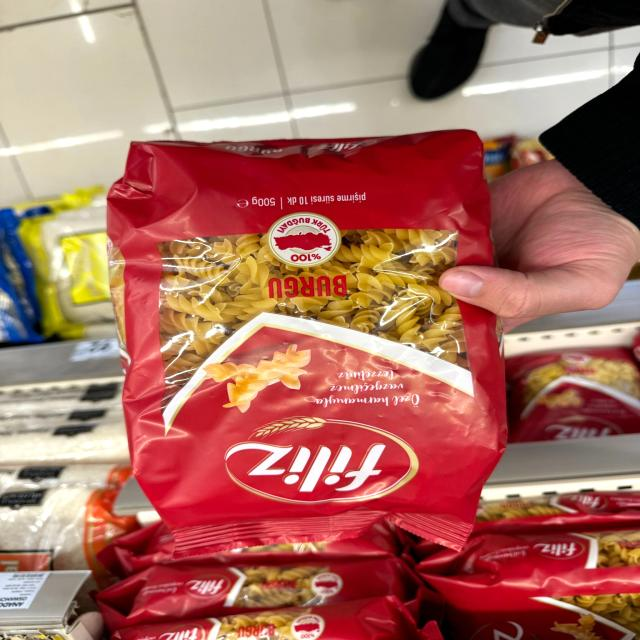fusilli pasta: (125, 142, 511, 542)
